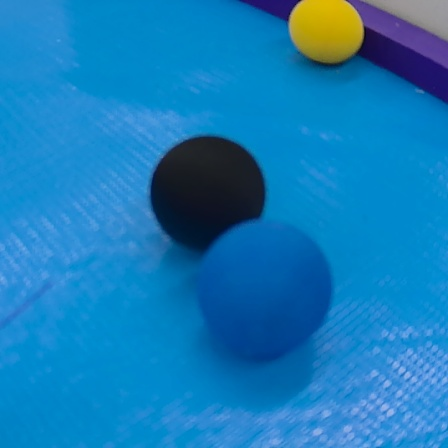black: (146, 129, 273, 261)
blue: (201, 217, 339, 363)
blue_aim: (2, 3, 448, 448)
yellow: (286, 1, 366, 68)
